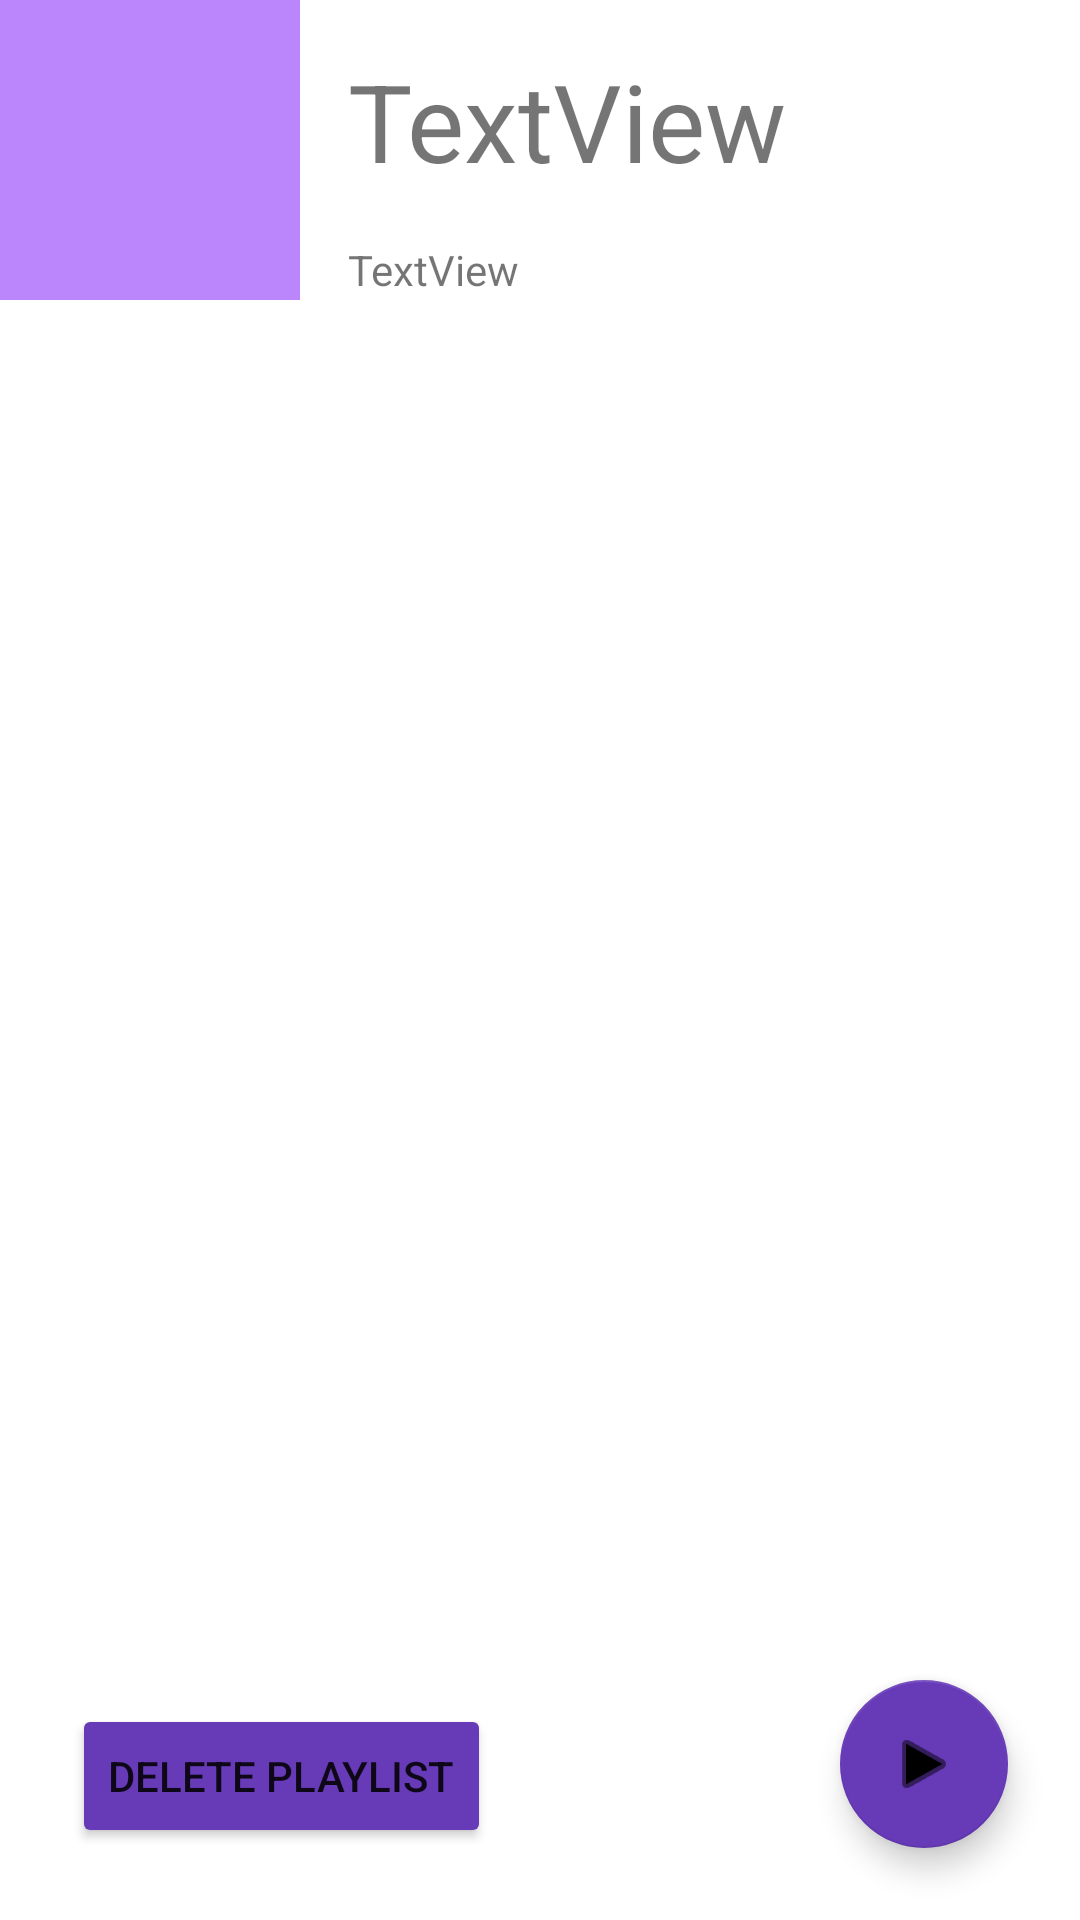

Where to tap for icons on this 1080 x 1920 app screen, as [x,y]:
play: [924,1764]
